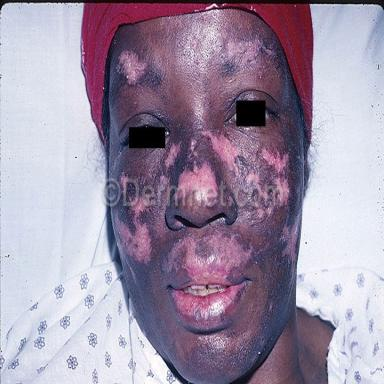Lupus-Erythematosus-Chronicus-Discoides: (162, 229, 263, 285), (114, 202, 151, 273), (200, 130, 246, 178), (178, 139, 216, 192), (226, 38, 281, 71), (262, 148, 289, 205), (283, 212, 301, 277), (116, 50, 148, 85), (164, 141, 181, 170)
